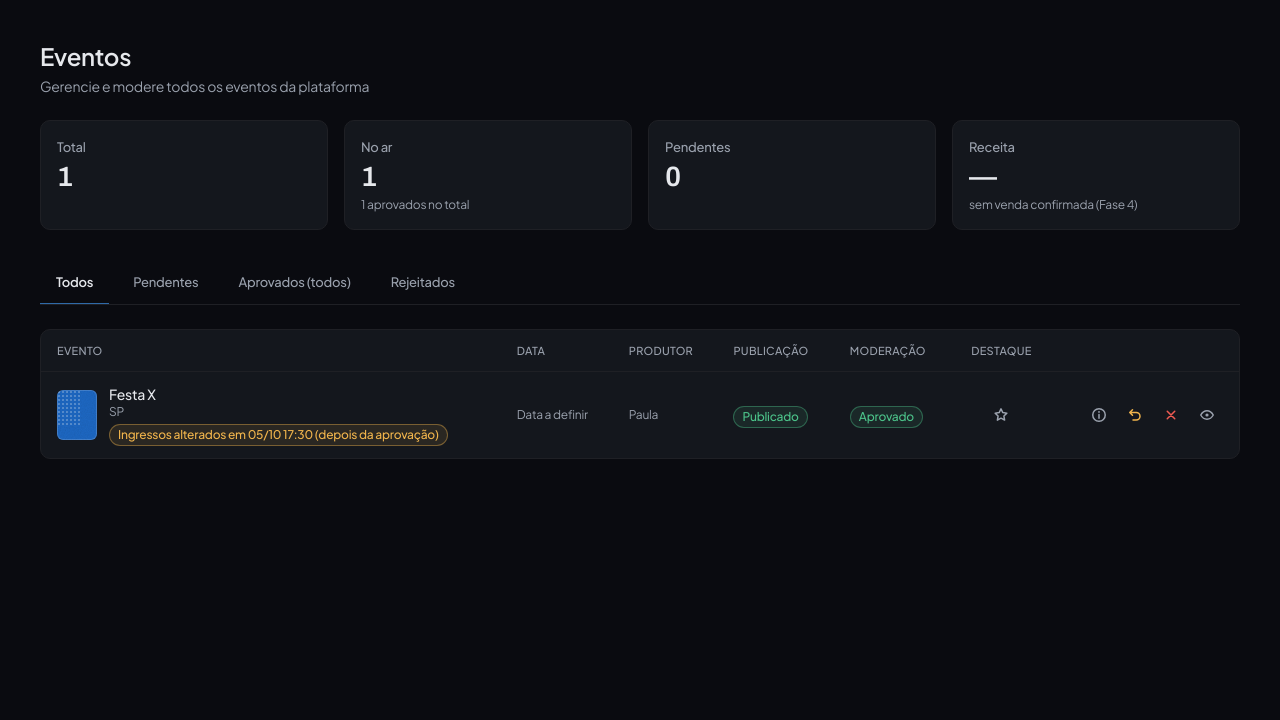
detalhe do evento na moderação (S8) › lista e detalhe mostram o selo "Ingressos alterados em … (depois da aprovação)"
Click the button named "Ver detalhes do evento": (1099, 415) [1083,399,1115,431]
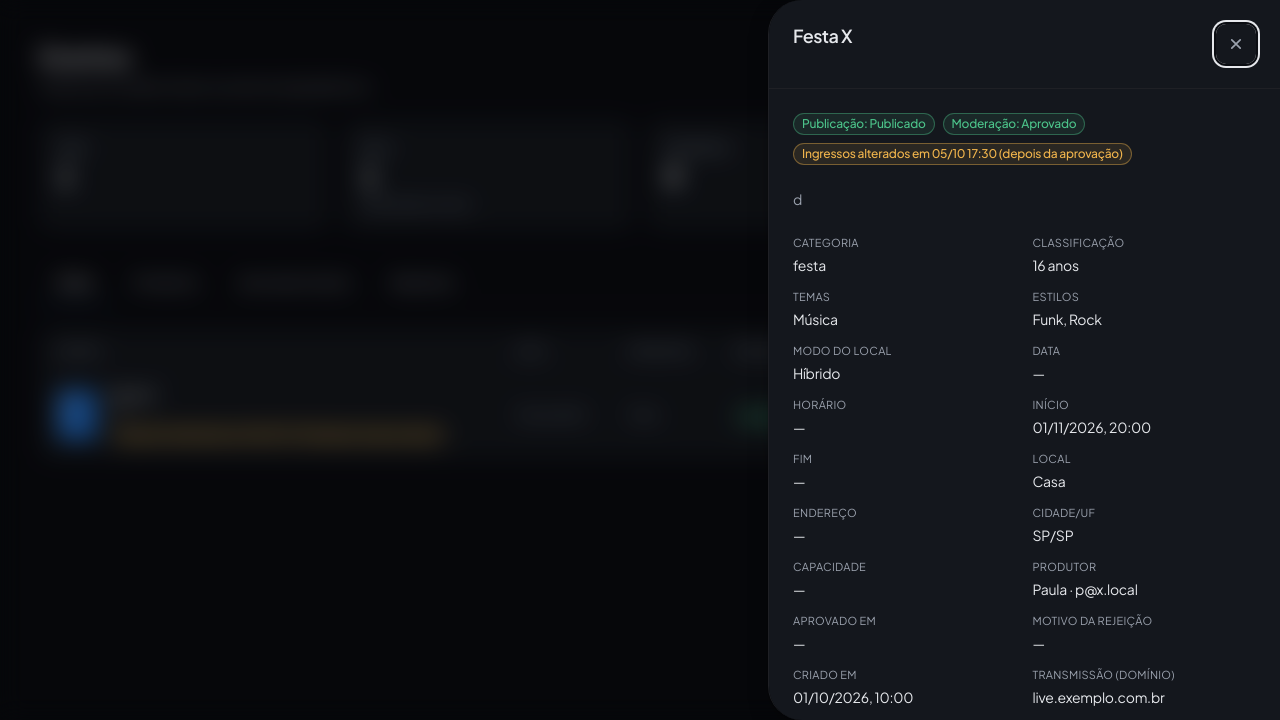
Expected: the text "Ingressos alterados em 05/10 17:30 (depois da aprovação)" is shown, [793,143,1132,165]
